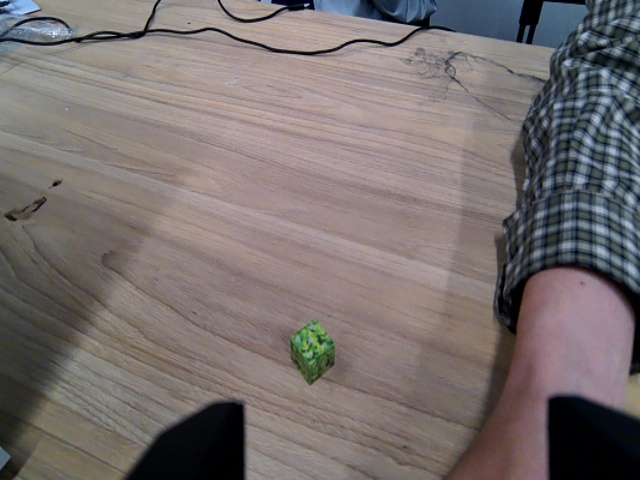grass: (289, 320, 337, 385)
